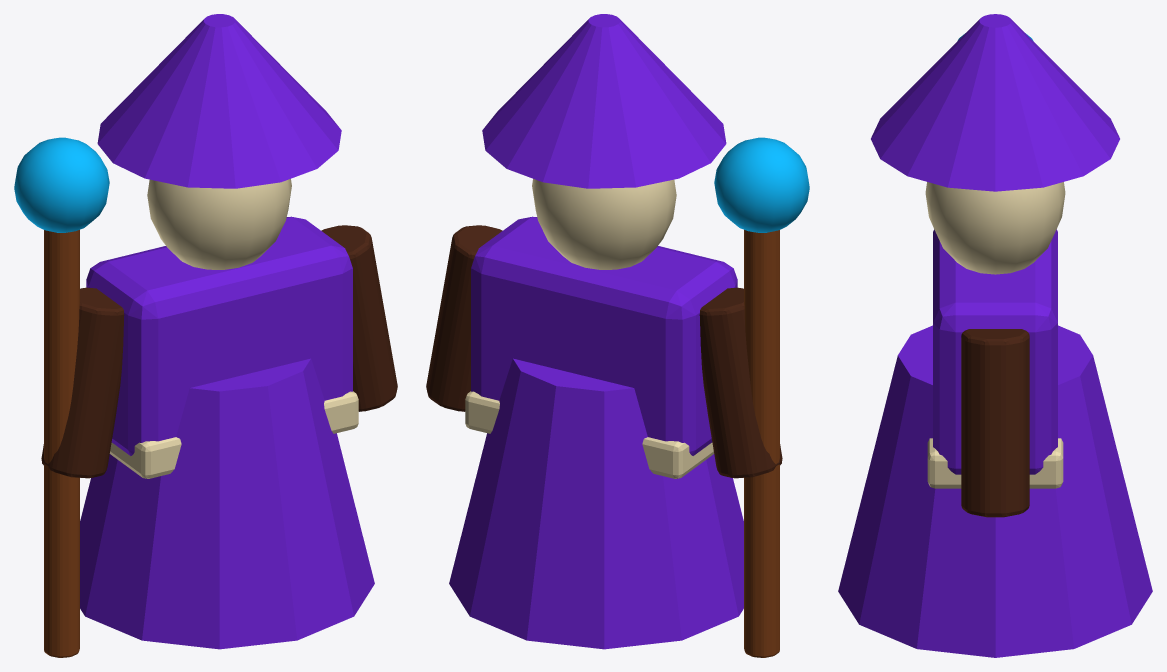
Rendered from village_elder.obj.
The picture shows the model from 3 angles, left to right: view 1: azimuth 30°, elevation 25°; view 2: azimuth 150°, elevation 25°; view 3: azimuth 270°, elevation 25°; orthographic projection.
Visible parts, largest first — view 1: elder_robe_M_purple, elder_torso_M_purple, elder_hat_M_purple, elder_staff_M_wood, elder_head_M_cream, elder_arm_r_M_brown, elder_staff_gem_M_cyan, elder_arm_l_M_brown, elder_belt_M_cream; view 2: elder_robe_M_purple, elder_torso_M_purple, elder_hat_M_purple, elder_staff_M_wood, elder_head_M_cream, elder_arm_r_M_brown, elder_staff_gem_M_cyan, elder_arm_l_M_brown, elder_belt_M_cream; view 3: elder_robe_M_purple, elder_hat_M_purple, elder_torso_M_purple, elder_arm_l_M_brown, elder_head_M_cream, elder_belt_M_cream.
Part boxes in pixels (box(x1,y1,x2,y2)): elder_robe_M_purple: box(80, 358, 374, 649); elder_torso_M_purple: box(86, 216, 352, 455); elder_hat_M_purple: box(97, 14, 341, 188); elder_staff_M_wood: box(44, 230, 79, 657); elder_head_M_cream: box(147, 179, 291, 269); elder_arm_r_M_brown: box(41, 287, 124, 478); elder_staff_gem_M_cyan: box(14, 137, 109, 232); elder_arm_l_M_brown: box(321, 225, 397, 411); elder_belt_M_cream: box(109, 391, 358, 478); elder_robe_M_purple: box(449, 358, 743, 649); elder_torso_M_purple: box(471, 216, 737, 455); elder_hat_M_purple: box(482, 14, 726, 188); elder_staff_M_wood: box(744, 230, 779, 657); elder_head_M_cream: box(532, 179, 676, 269); elder_arm_r_M_brown: box(699, 287, 782, 478); elder_staff_gem_M_cyan: box(714, 137, 809, 232); elder_arm_l_M_brown: box(426, 225, 502, 411); elder_belt_M_cream: box(465, 391, 714, 478); elder_robe_M_purple: box(838, 325, 1152, 657); elder_hat_M_purple: box(871, 14, 1119, 191); elder_torso_M_purple: box(933, 229, 1057, 474); elder_arm_l_M_brown: box(961, 329, 1029, 517); elder_head_M_cream: box(925, 182, 1065, 274); elder_belt_M_cream: box(927, 438, 1063, 488).
Bounding box in the file's own units: 0.8037 × 1.22 × 0.58.
